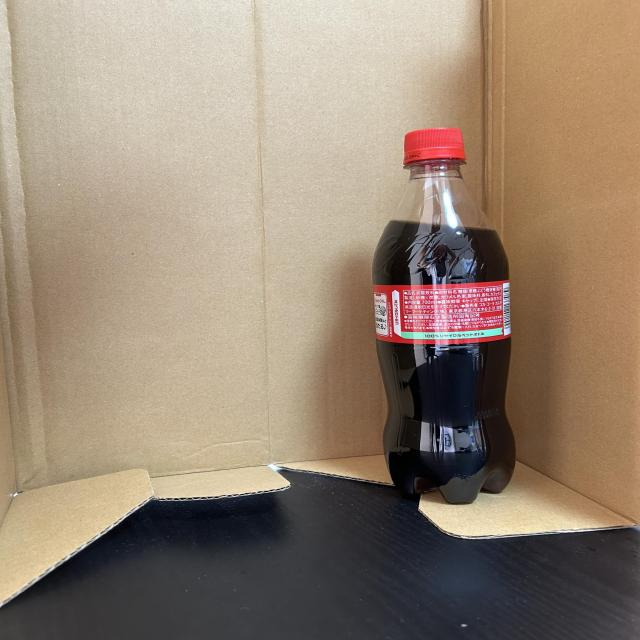high: (372, 128, 515, 503)
